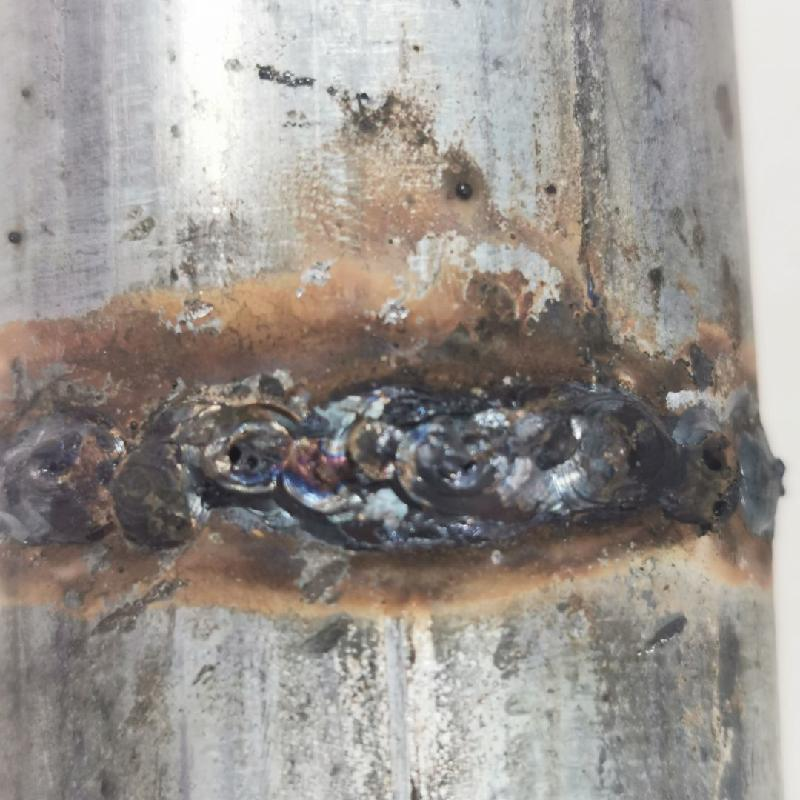Surface_pores: (688, 423, 743, 529), (212, 428, 273, 482), (38, 449, 79, 487)
crater: (205, 407, 508, 542)
wrong_size: (522, 399, 789, 534), (2, 431, 209, 540)
